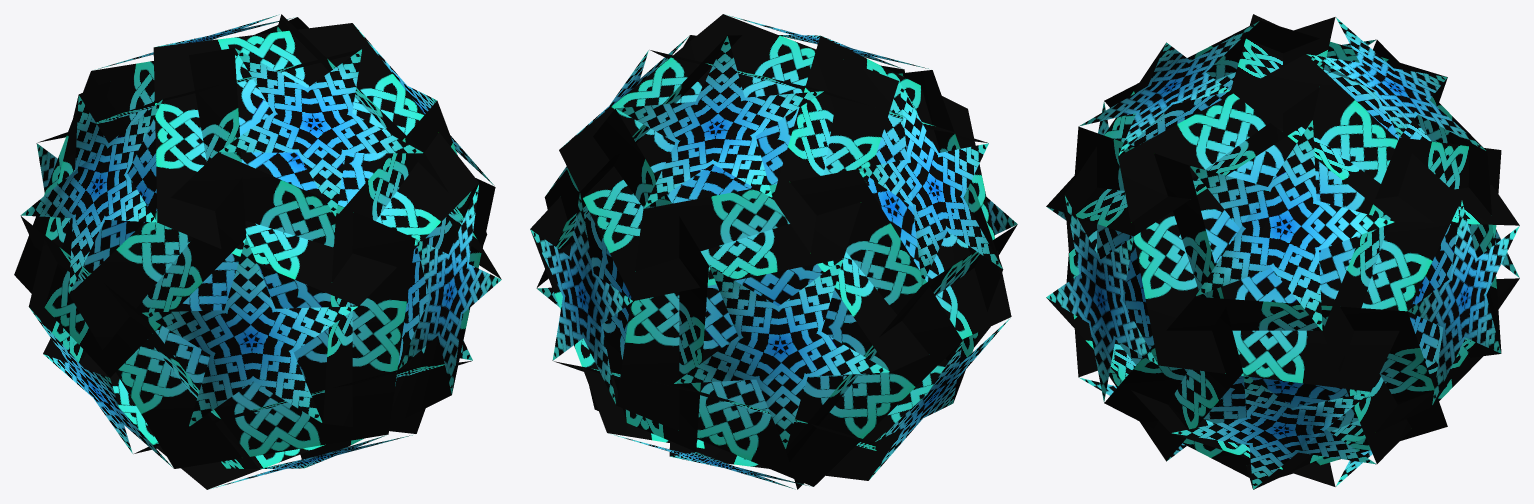
File: 36SnubIcosidodecadodecahedron.gltf
3 views of the same model, side by side, from view 1: azimuth 30°, elevation 25°; view 2: azimuth 150°, elevation 25°; view 3: azimuth 270°, elevation 25° (orthographic).
Parts seen in each view (by area): view 1: 25SnubIcosidodecadodecahedron; view 2: 25SnubIcosidodecadodecahedron; view 3: 25SnubIcosidodecadodecahedron.
Boxes of the visible parts, <box> form: 25SnubIcosidodecadodecahedron: <box>14,14,501,489</box>; 25SnubIcosidodecadodecahedron: <box>530,14,1017,489</box>; 25SnubIcosidodecadodecahedron: <box>1046,14,1519,489</box>.
Size of the model in its own units: 2.21 by 2.21 by 2.21.
Materials: 1 (1 with a texture image).
